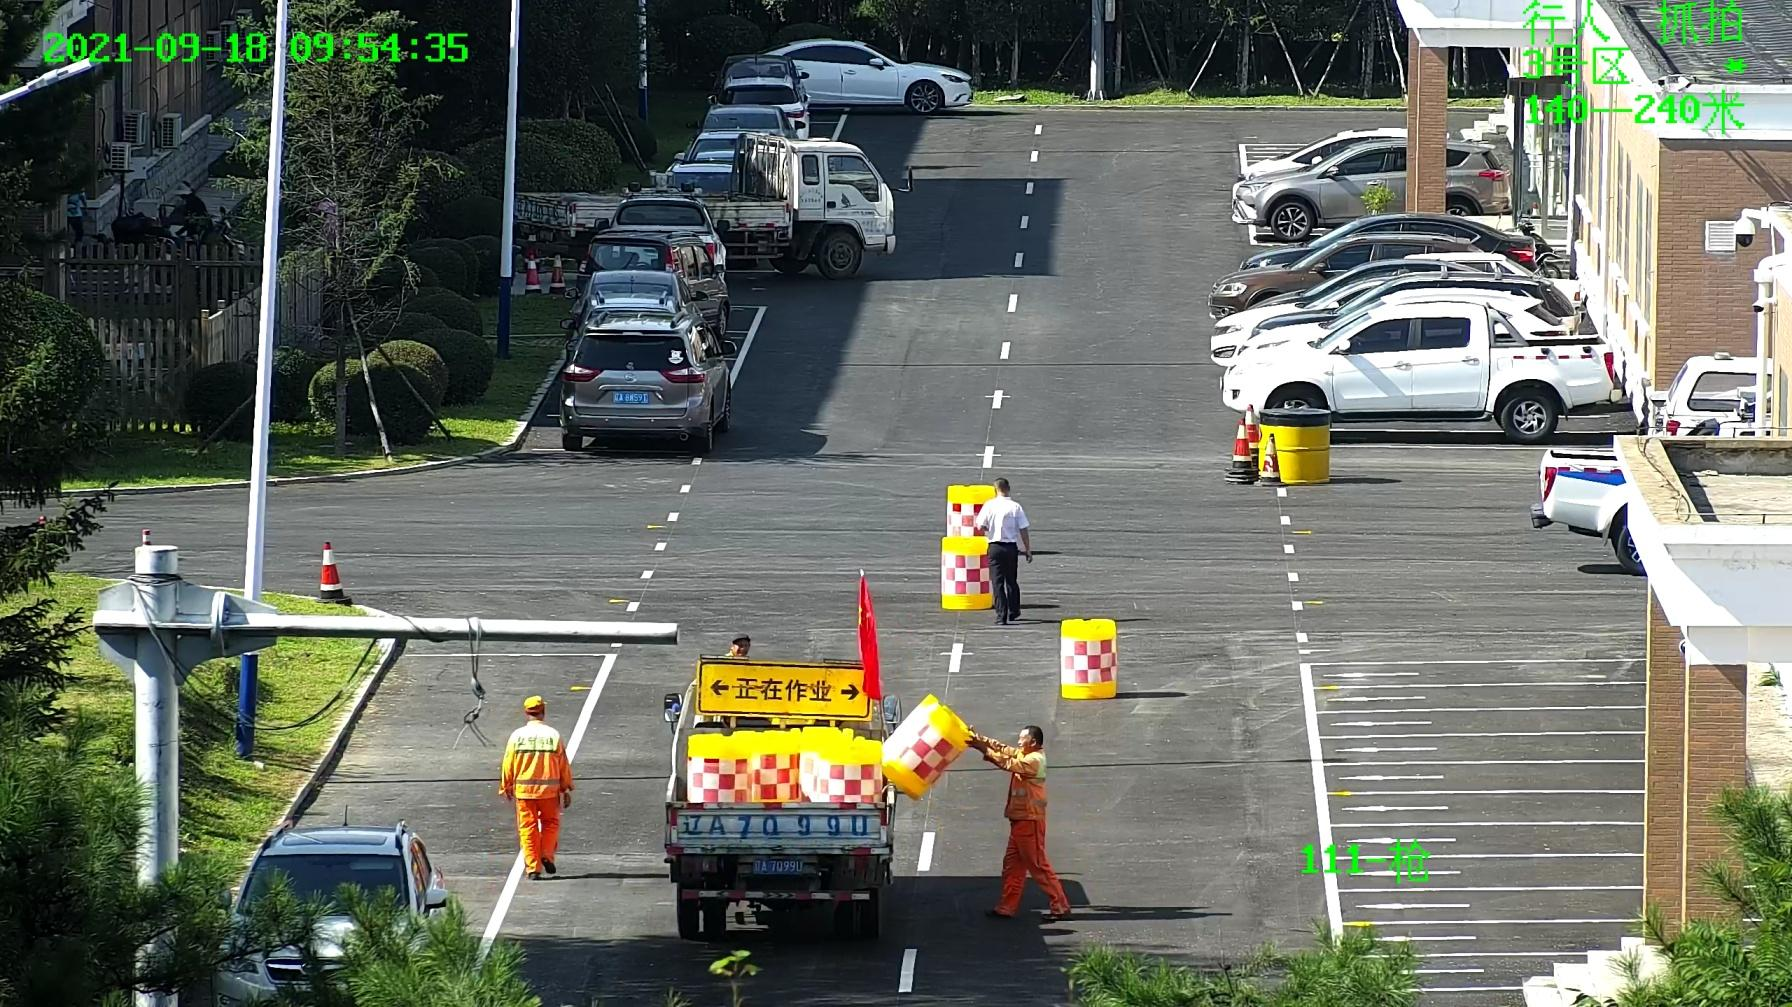cone_barrel: (880, 694, 978, 801), (798, 732, 880, 804), (1058, 620, 1118, 700), (686, 730, 746, 801), (938, 536, 992, 612), (745, 728, 798, 803), (944, 485, 994, 537)
